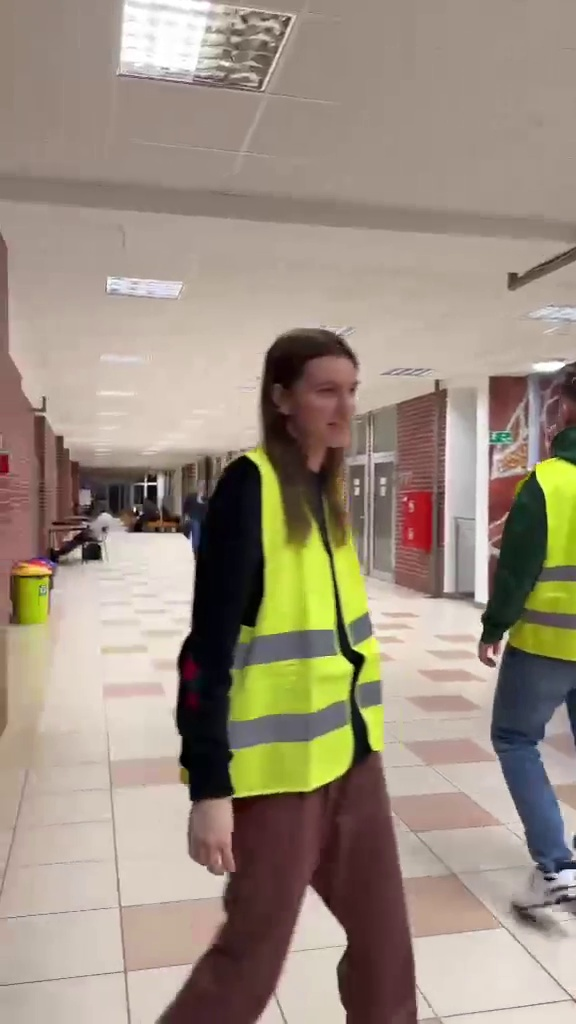vest: (177, 331, 433, 1024), (484, 346, 576, 910)
